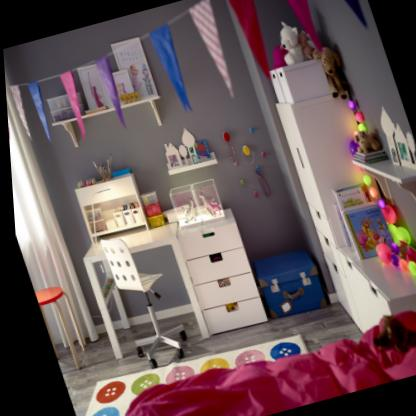Chair: (92, 223, 193, 374)
Table: (70, 212, 214, 364)
